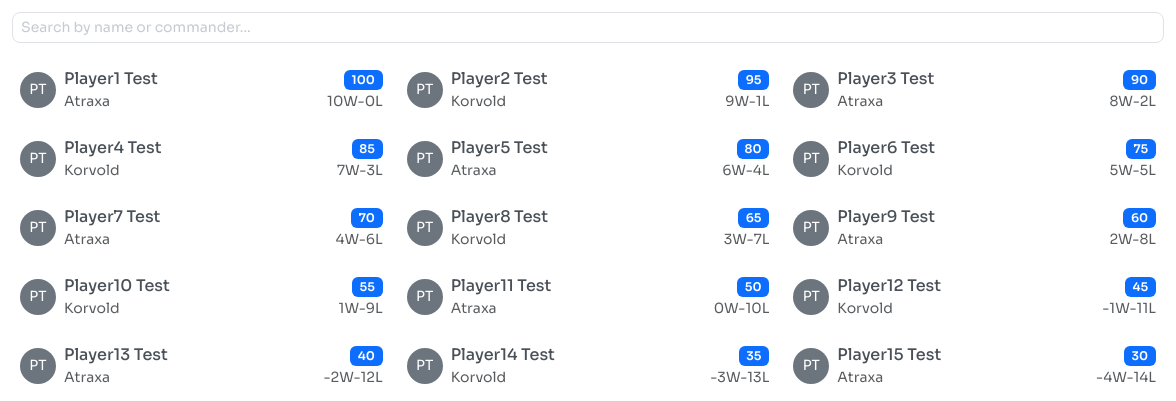
Test: ParticipantsSection › search functionality › should filter participants by name
The image size is (1176, 401).
Step 1. Type "Player1 " into the field with placeholder "Search by name or commander..." → (588, 28), box [12, 12, 1164, 43]
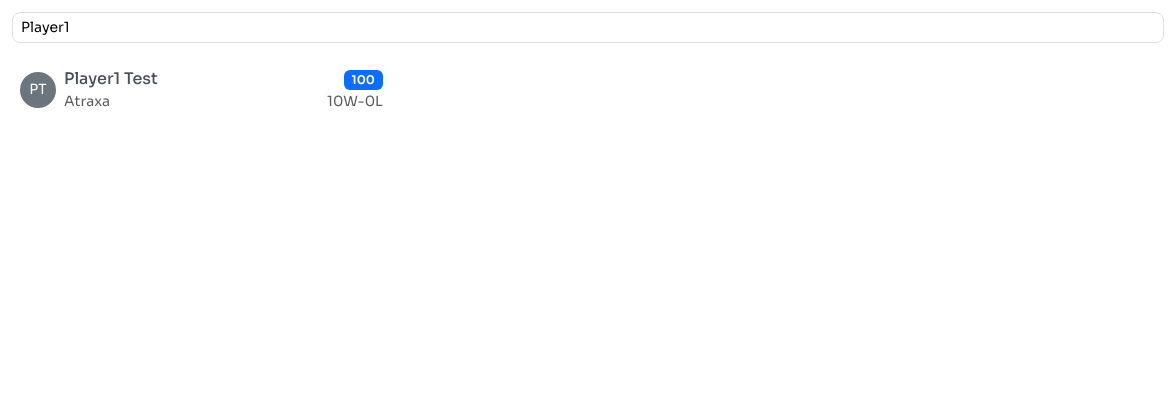
Expected: the text "Player1 Test" is shown, [64, 68, 158, 89]
Expected: the link "Player2 Test" is gone
